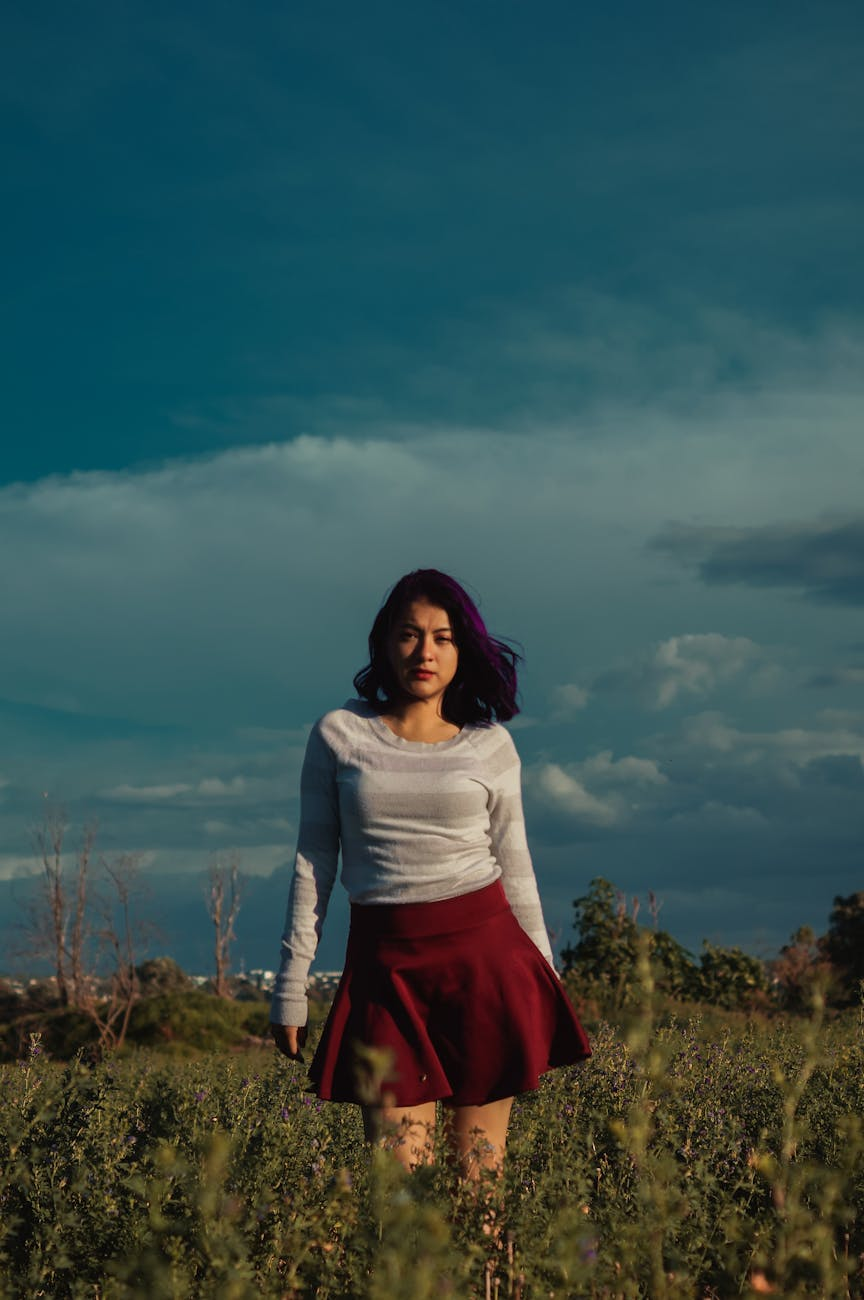short_medium_skirt: (317, 888, 583, 1107)
